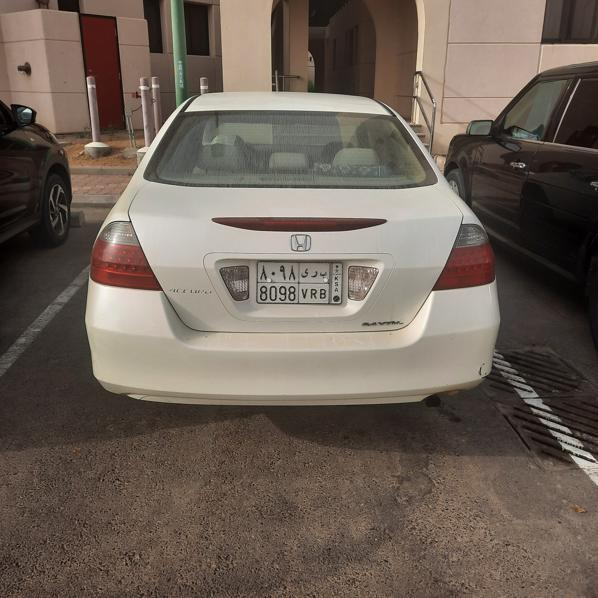numberplate: (256, 261, 343, 305)
